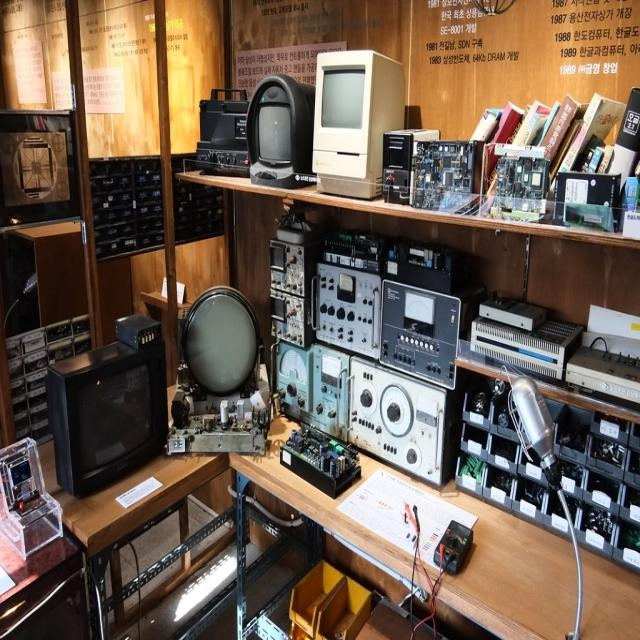E-waste: (5, 34, 639, 613)
